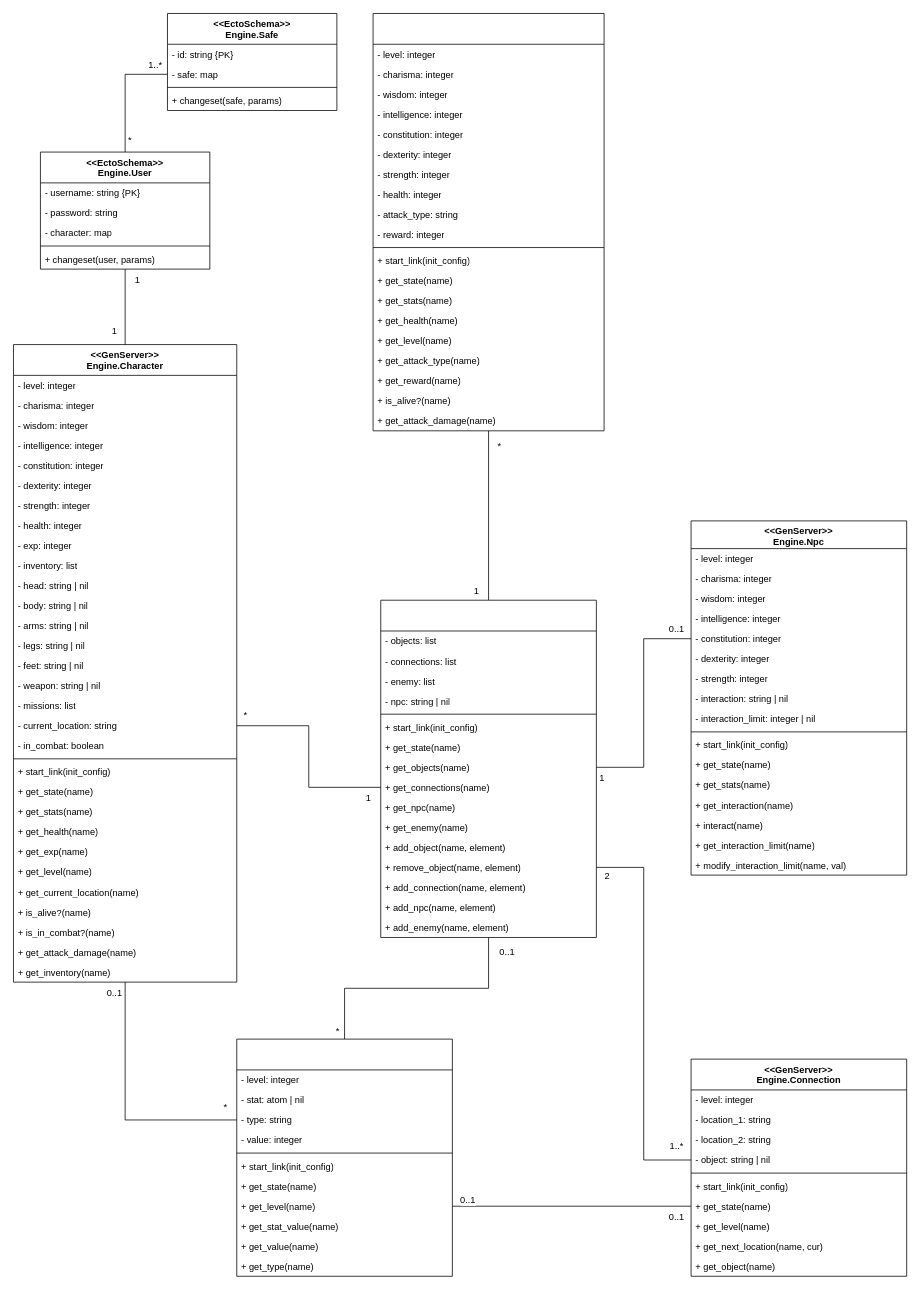
Image size: 920x1292. Some labels were removed from this diagram. The box of each missing label's shape, as (x1, y1, x2, y2) in pixels:
<<GenServer>> Engine.Enemy: (372, 13, 604, 431)
<<GenServer>> Engine.Location: (380, 599, 596, 937)
<<GenServer>> Engine.Object: (236, 1038, 452, 1276)
